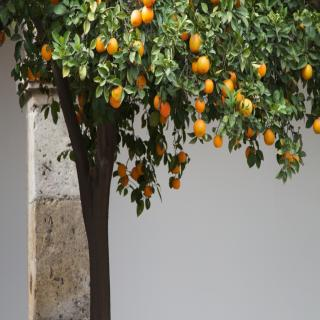Orange: (130, 8, 142, 30), (240, 97, 252, 119), (190, 33, 203, 53), (197, 56, 210, 76), (132, 40, 146, 58), (264, 128, 276, 146), (222, 79, 234, 96), (107, 37, 118, 55), (110, 86, 122, 102), (41, 44, 52, 61), (96, 37, 108, 52), (194, 120, 205, 136), (302, 64, 313, 80), (108, 96, 122, 108), (160, 102, 171, 116), (117, 163, 127, 178), (256, 62, 266, 77), (143, 7, 152, 23), (213, 136, 224, 148), (144, 184, 154, 197), (312, 117, 320, 133), (205, 79, 213, 94), (27, 66, 35, 80), (152, 96, 160, 110), (121, 175, 129, 188), (178, 150, 186, 163), (137, 162, 144, 176), (142, 0, 154, 8), (171, 178, 180, 188), (130, 167, 138, 178)
